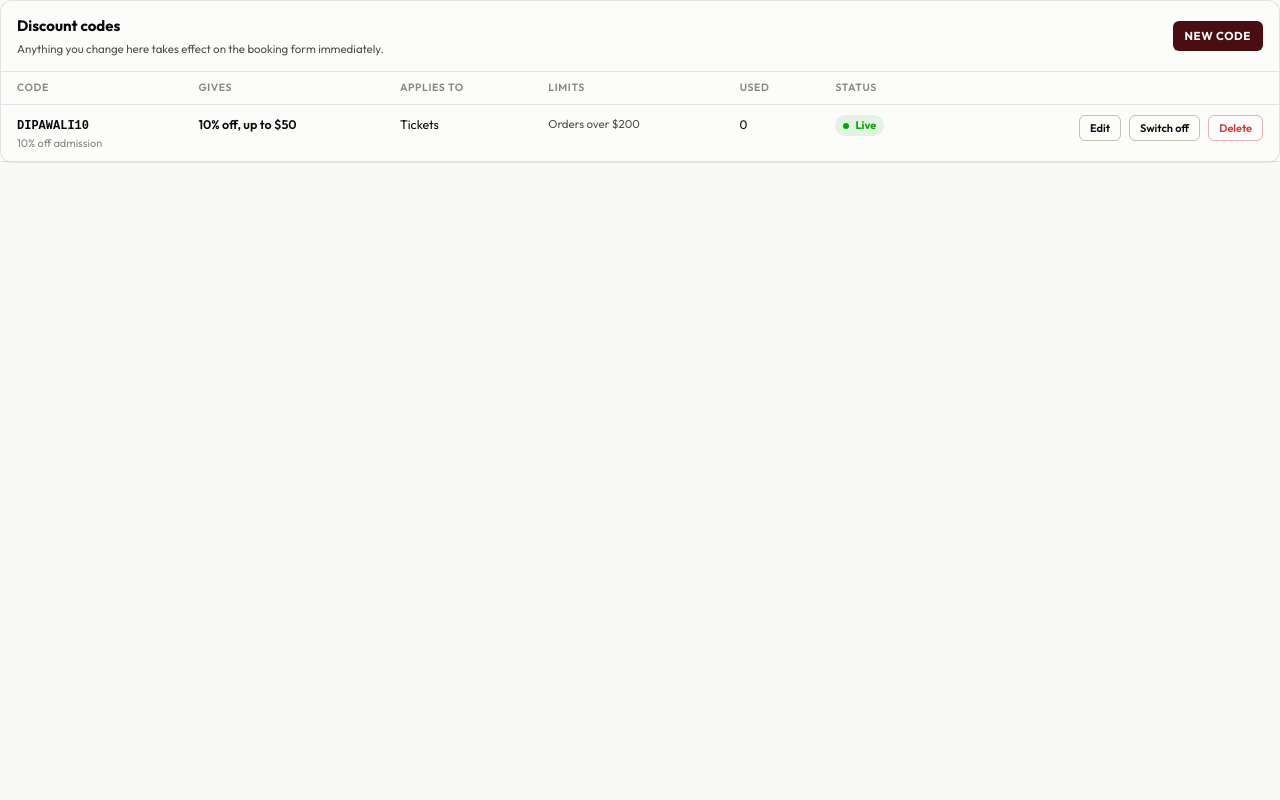
Test: Creating a code › shows the server reason when a code is refused
Step 1. Click the button "New code" → (1218, 36), box [1172,21,1263,51]
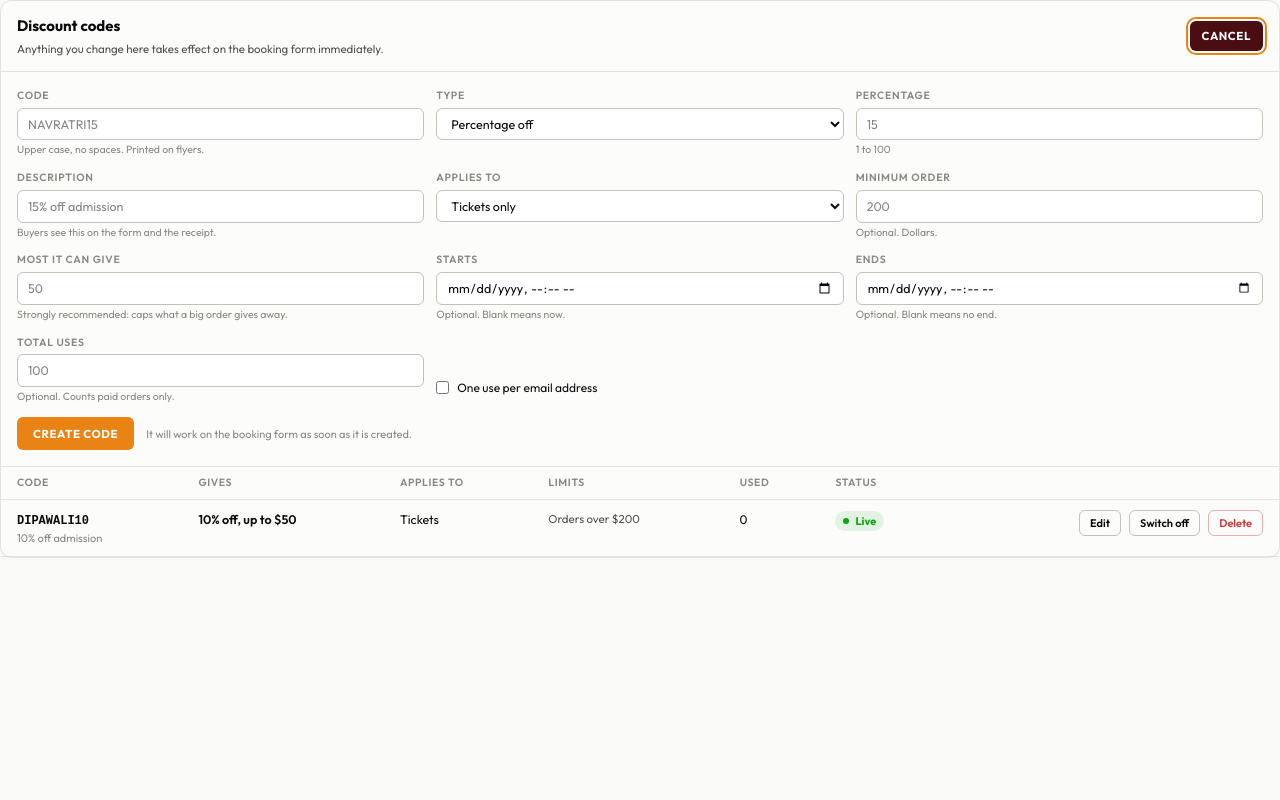
Step 2. Type "TOOMUCH" into the field labelled "Code Upper case, no spaces. Printed on flyers." → (221, 124), box [17,108,424,140]
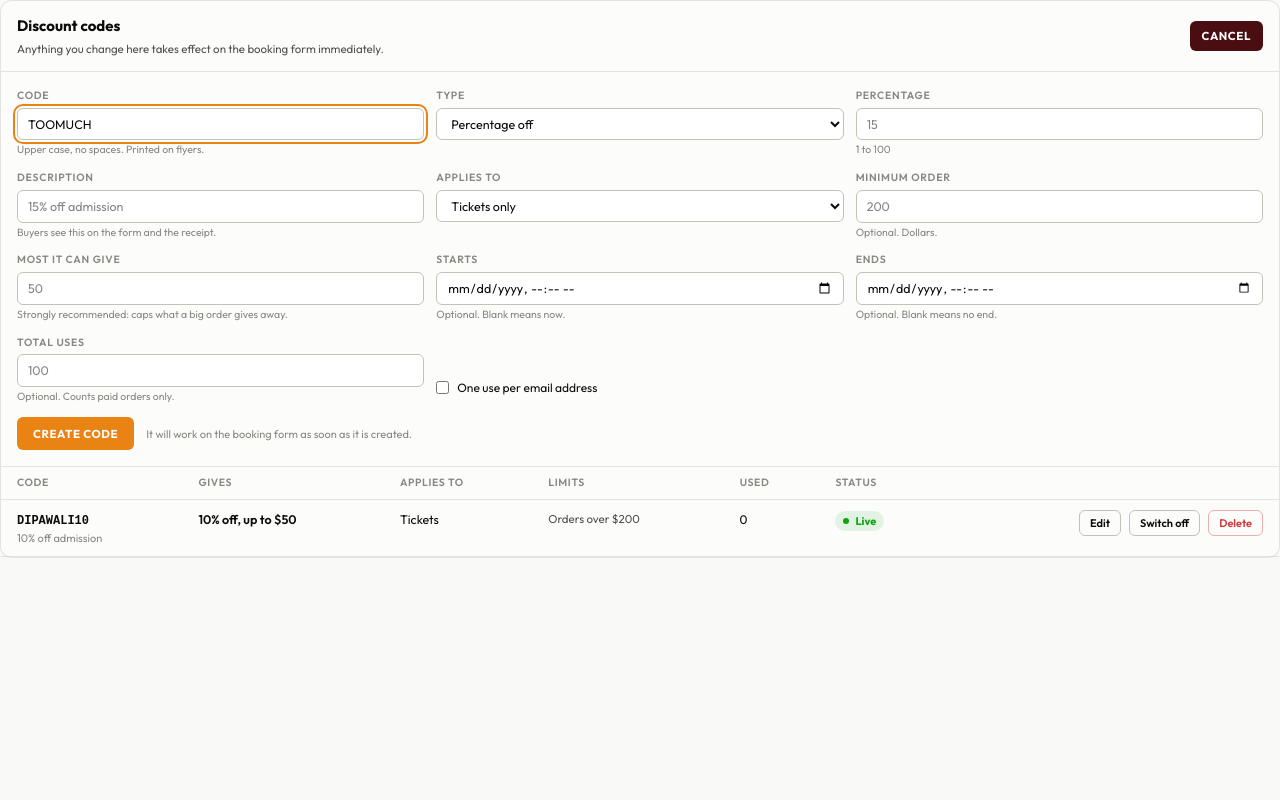
Step 3. Type "150" into the field labelled "Percentage 1 to 100" → (1059, 124), box [856,108,1263,140]
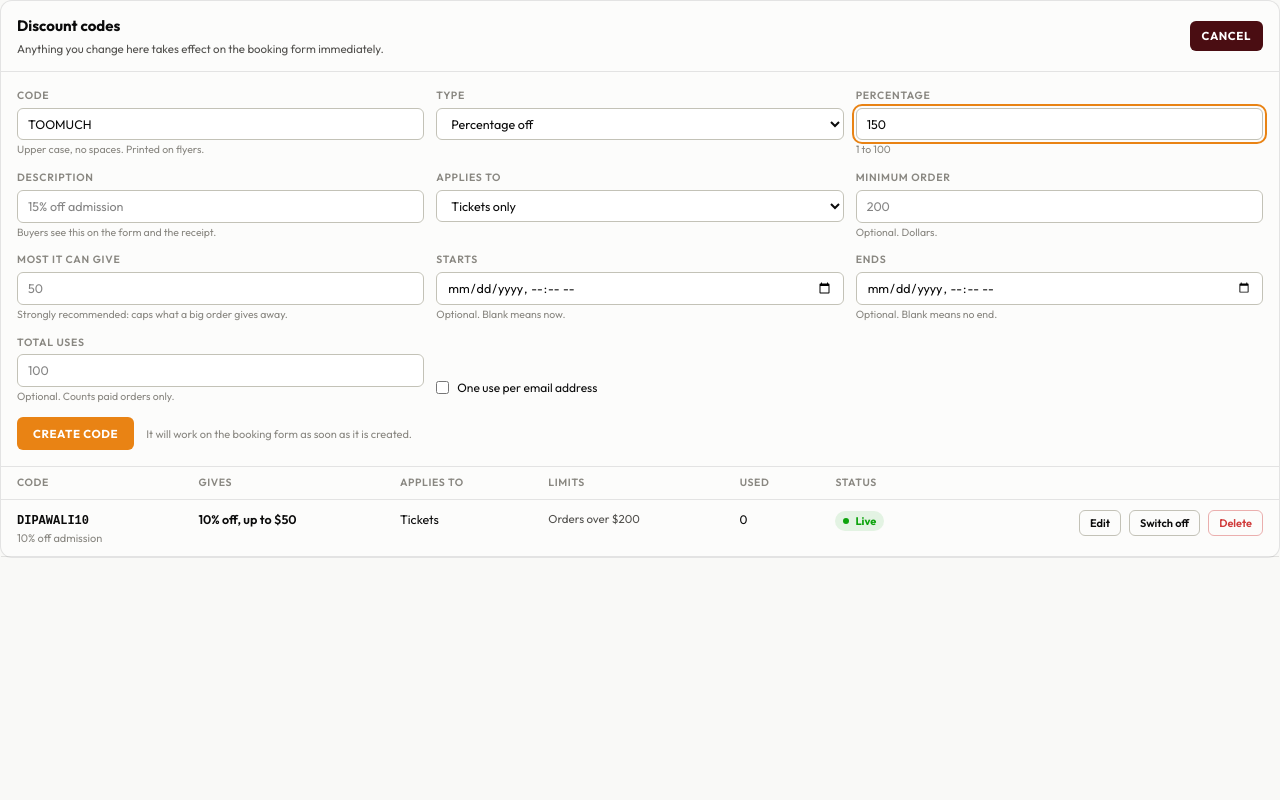
Step 4. Type "Too much" into the field labelled "Description Buyers see this on the form and the receipt." → (221, 206), box [17,190,424,223]
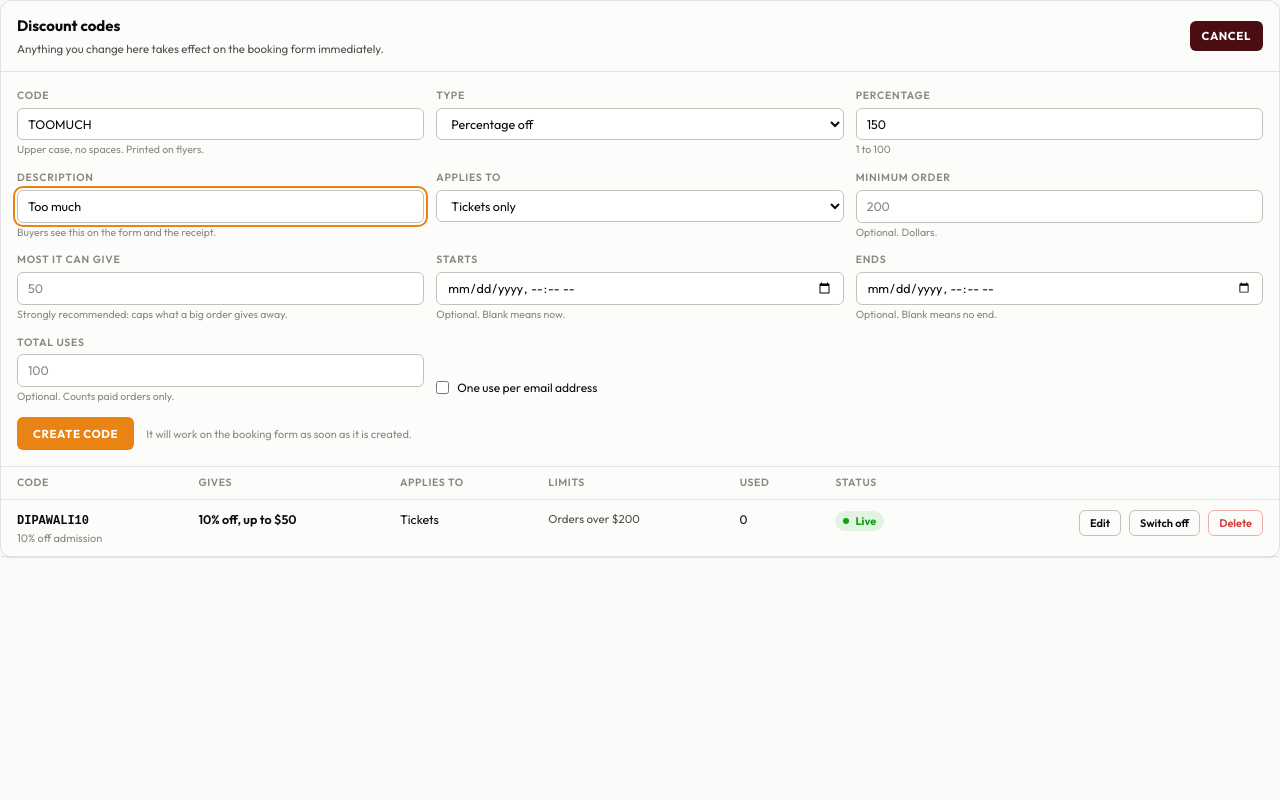
Step 5. Click the button "Create code" → (76, 433), box [17,417,134,450]
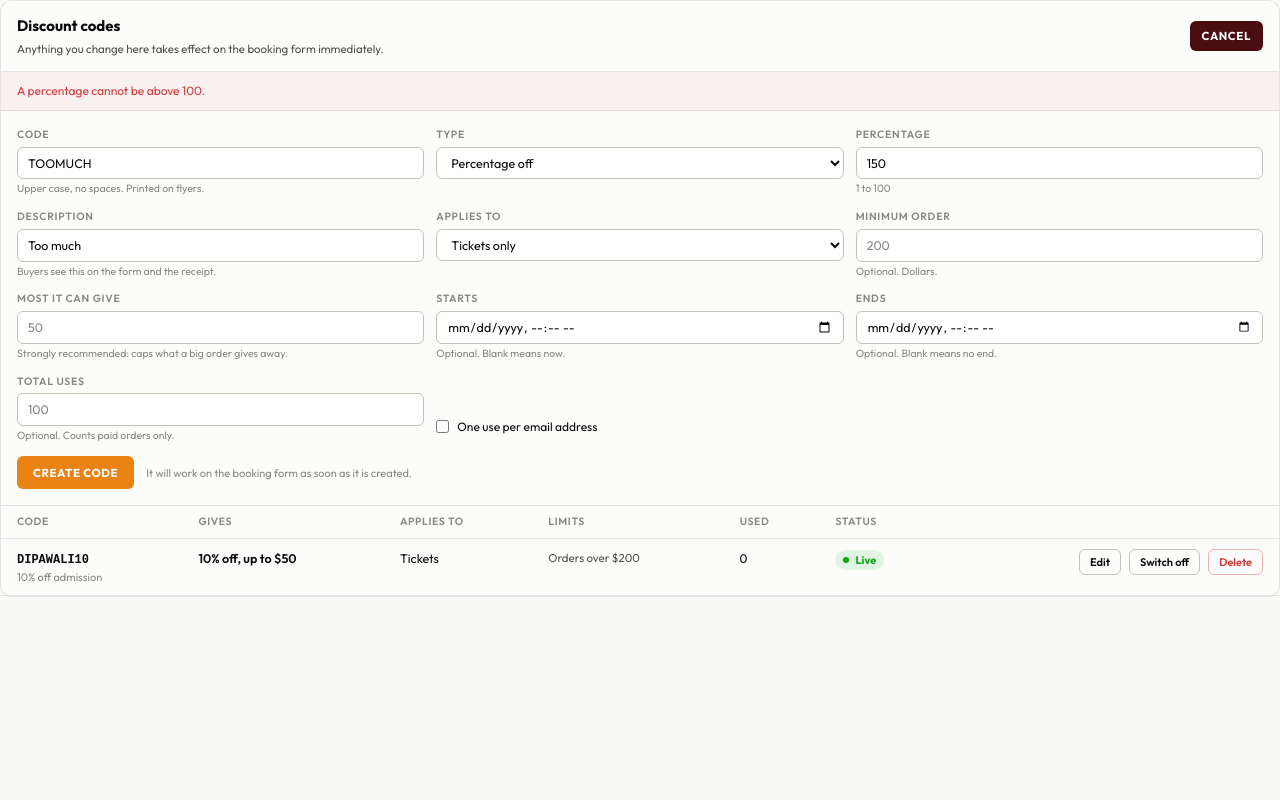
Result: the message shows "above 100" at [17,83,205,98]
